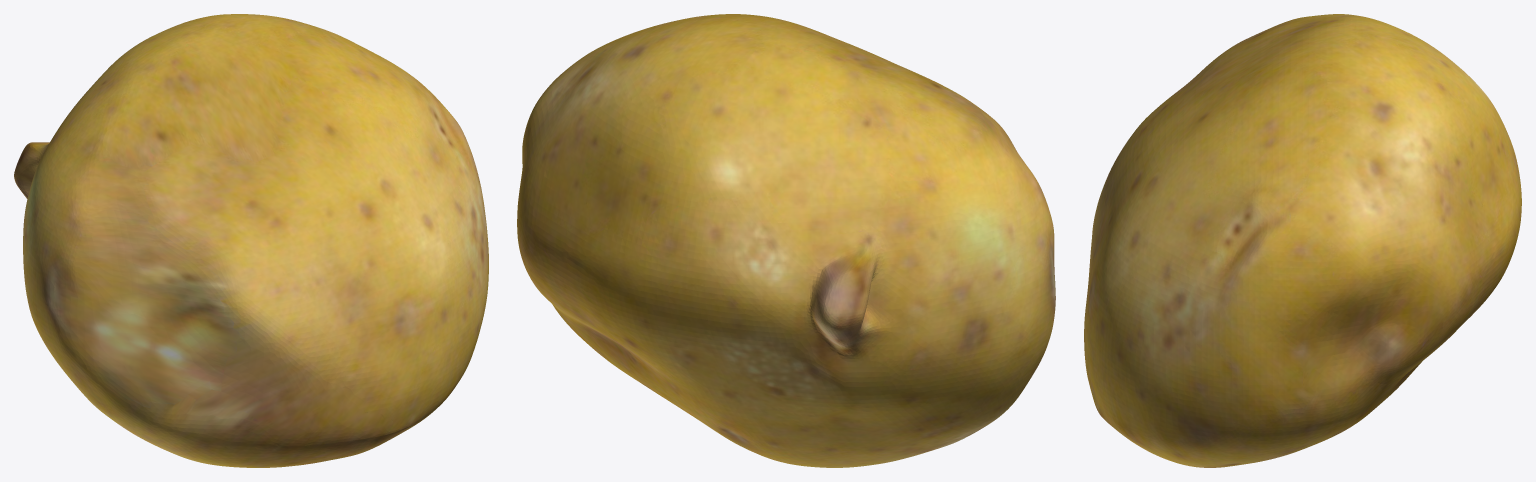
Rendered from Scan.obj.
3 renders of one model, left to right at view 1: azimuth 30°, elevation 25°; view 2: azimuth 150°, elevation 25°; view 3: azimuth 270°, elevation 25°, orthographic. The views are drawn at different scales.
Bounding box in the file's own units: 68.81 × 59.93 × 58.93.
Materials: 1 (1 with a texture image).
